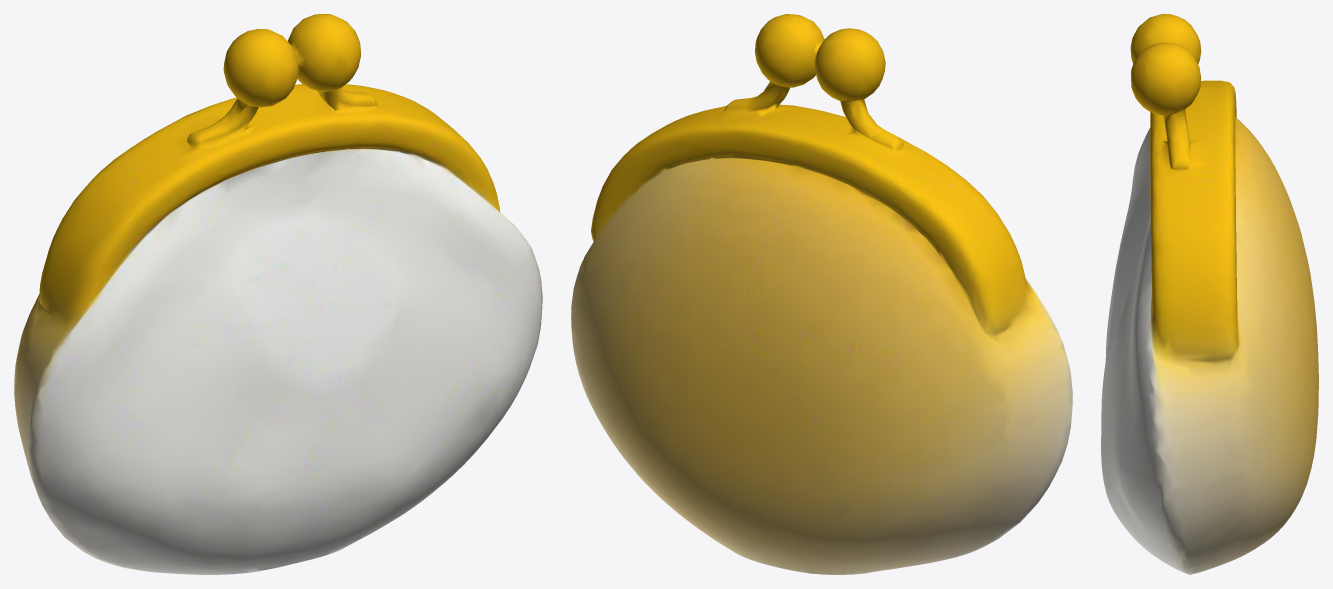
Rendered from purse.glb.
The picture shows the model from 3 angles, left to right: view 1: azimuth 30°, elevation 25°; view 2: azimuth 150°, elevation 25°; view 3: azimuth 270°, elevation 25°; orthographic projection. The views are drawn at different scales.
Visible parts, largest first — view 1: tripo_node_ddbe4268-be6b-472e-b750-680c38cabcc5; view 2: tripo_node_ddbe4268-be6b-472e-b750-680c38cabcc5; view 3: tripo_node_ddbe4268-be6b-472e-b750-680c38cabcc5.
Part boxes in pixels (bbox=[...]): tripo_node_ddbe4268-be6b-472e-b750-680c38cabcc5: bbox=[14, 14, 542, 574]; tripo_node_ddbe4268-be6b-472e-b750-680c38cabcc5: bbox=[571, 14, 1072, 574]; tripo_node_ddbe4268-be6b-472e-b750-680c38cabcc5: bbox=[1101, 14, 1318, 574].
Size of the model in its own units: 0.9801 by 0.9786 by 0.3879.
1 material, 1 textured.
